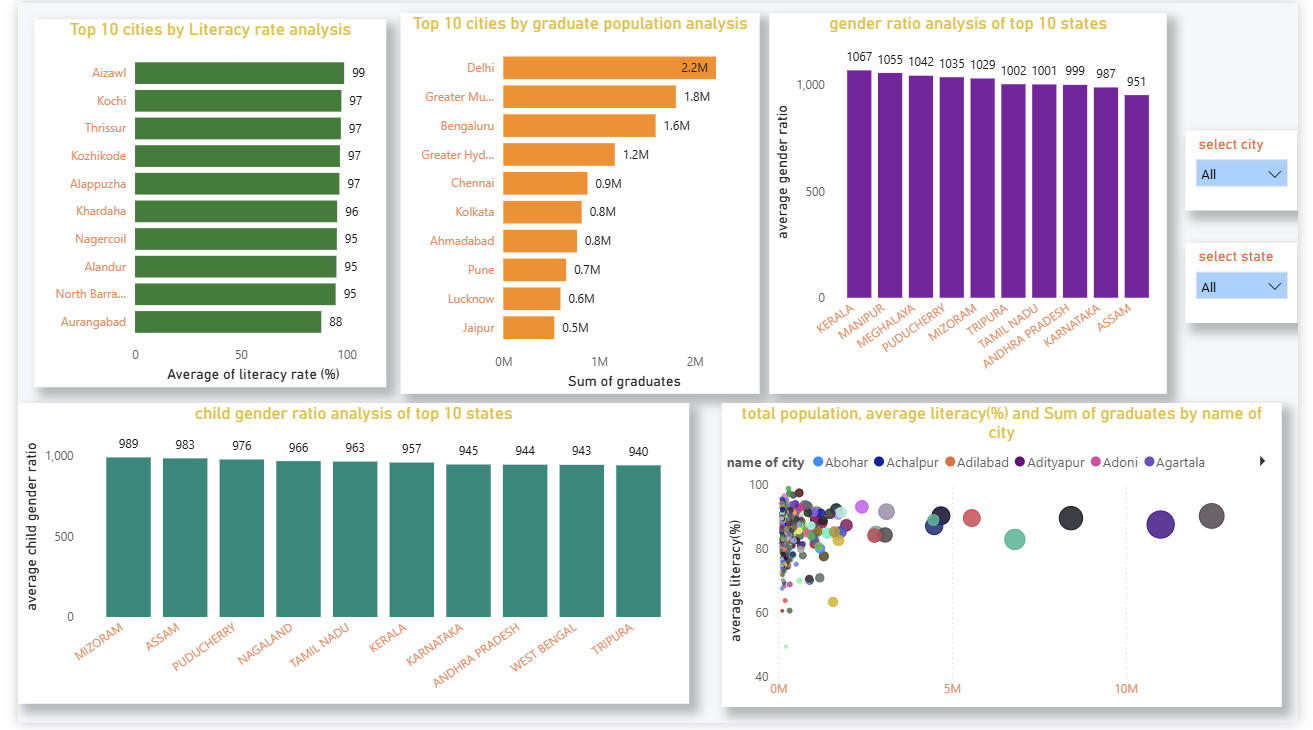

What the dashboard file says about the page in this screenshot:
{"tool":"powerbi","page":{"name":"Page 2","canvas":[1280,720],"ordinal":1},"visuals":[{"type":"barChart","title":"Top 10 cities by Literacy rate analysis","fields":{"Category":["cities_r2.name of city"],"Y":["Avg(cities_r2.literacy rate (%))"]},"box":[16,16,352,368],"z":0},{"type":"barChart","title":"Top 10 cities by graduate population analysis","fields":{"Category":["cities_r2.name of city"],"Y":["Sum(cities_r2.graduates)"]},"box":[382.1,9.5,359.5,381],"z":1000},{"type":"columnChart","title":" gender ratio analysis of top 10 states","fields":{"Category":["cities_r2.state name"],"Y":["cities_r2.average gender ratio"]},"box":[751.2,9.5,397.6,381],"z":2000},{"type":"columnChart","title":" child gender ratio analysis of top 10  states","fields":{"Category":["cities_r2.state name"],"Y":["cities_r2.average child gender ratio"]},"box":[0,400,671.4,301.2],"z":3000},{"type":"scatterChart","fields":{"X":["cities_r2.total population"],"Y":["cities_r2.average literacy(%)"],"Size":["Sum(cities_r2.graduates)"],"Series":["cities_r2.name of city"]},"box":[704,400,560,304],"z":4000},{"type":"slicer","fields":{"Values":["cities_r2.name of city"]},"box":[1168,128,112,80],"z":5000},{"type":"slicer","fields":{"Values":["cities_r2.state name"]},"box":[1168,240,112,80],"z":6000}]}

Visuals, with their boxes in screenshot pixels (x1, y1, x2, y2), scaled from the page's 1280x720 canvas onto the 1313x730 screenshot:
"Top 10 cities by Literacy rate analysis" barChart: box=[16, 16, 377, 389]
"Top 10 cities by graduate population analysis" barChart: box=[392, 10, 761, 396]
" gender ratio analysis of top 10 states" columnChart: box=[771, 10, 1178, 396]
" child gender ratio analysis of top 10  states" columnChart: box=[0, 406, 689, 711]
scatterChart - cities_r2.total population x cities_r2.average literacy(%): box=[722, 406, 1297, 714]
slicer - cities_r2.name of city: box=[1198, 130, 1312, 211]
slicer - cities_r2.state name: box=[1198, 243, 1312, 324]
